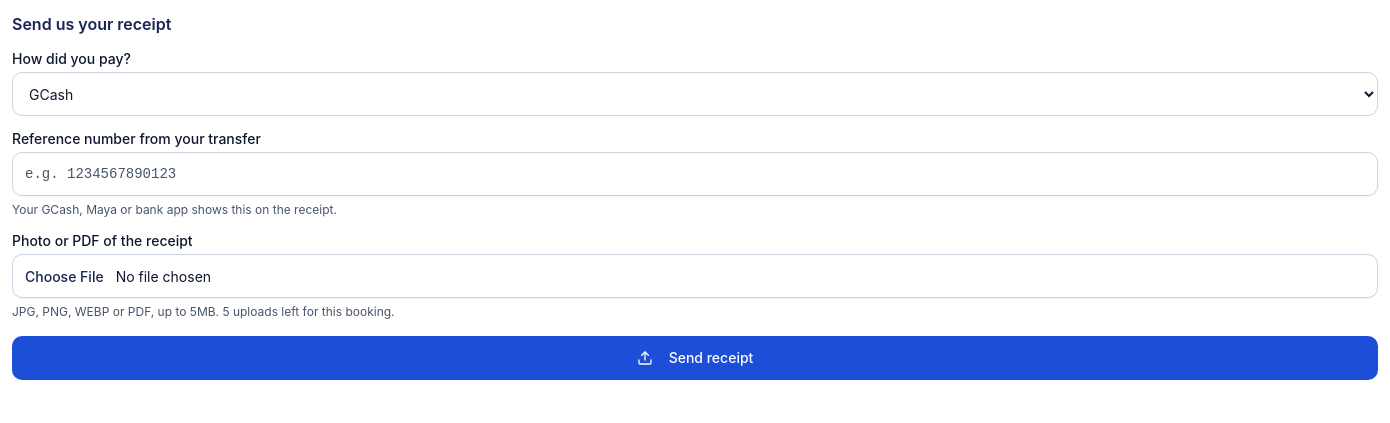
Test case: Receipt upload — per-field messages from the shared schema › wires the missing-file message to the file input, not to the notice
Type "GC1234567890" into the field labelled "Reference number from your transfer". click: x=695, y=174
box: [12,152,1378,196]
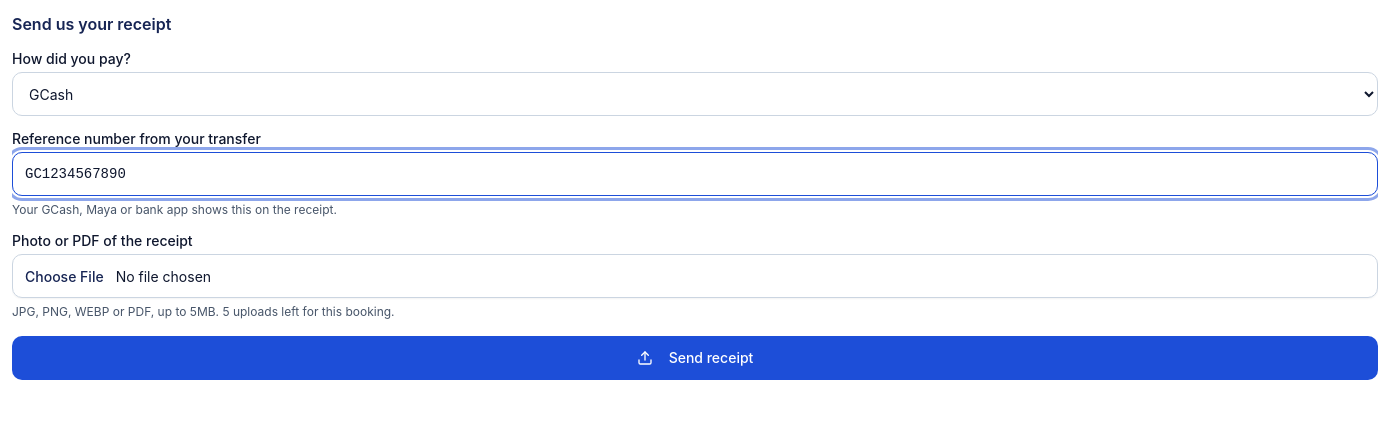
Submit the form
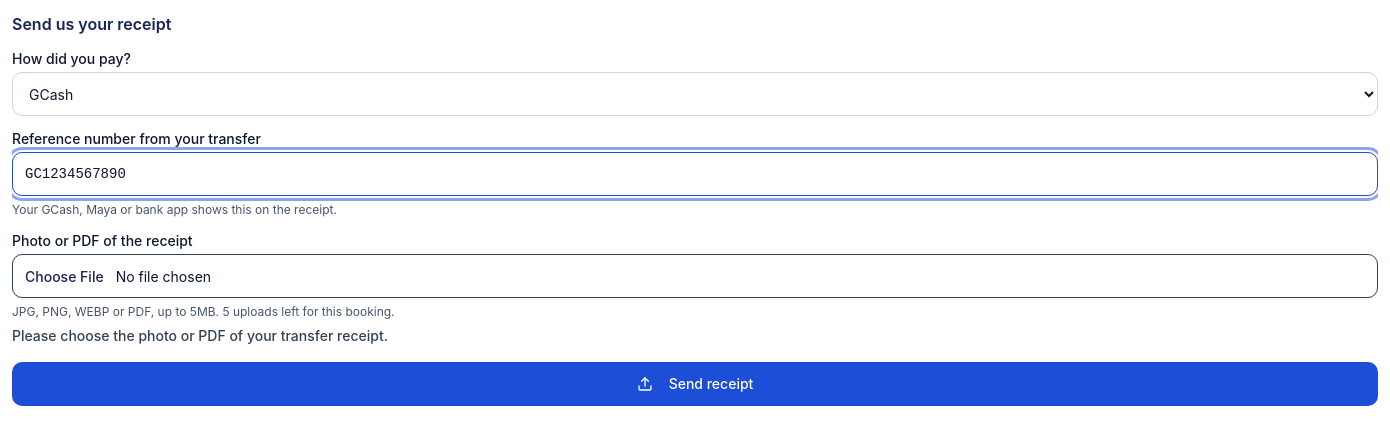
expect the message "Please choose the photo or PDF of your transfer receipt." is shown: met, box [12,327,388,344]
